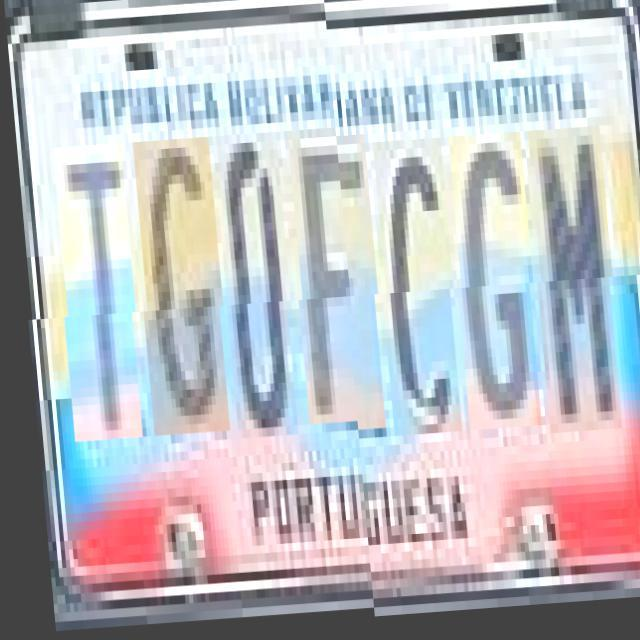0: (213, 145, 294, 450)
C: (370, 144, 458, 441)
F: (286, 140, 382, 438)
G: (130, 148, 227, 446), (445, 139, 537, 437)
M: (524, 135, 618, 441)
T: (51, 154, 139, 450)
